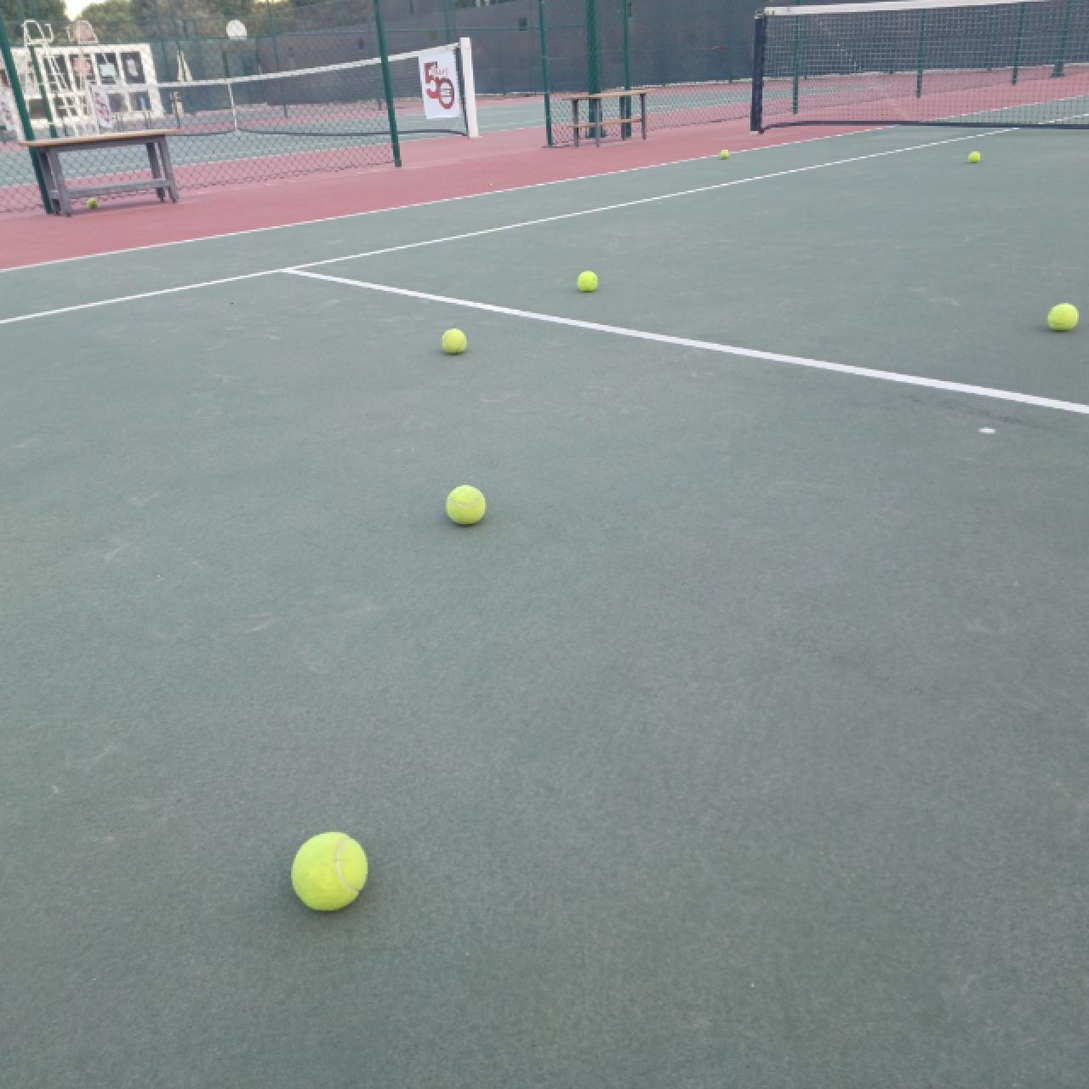tennis-ball: (291, 829, 367, 912), (445, 483, 487, 529), (1046, 300, 1080, 331), (439, 325, 467, 356), (574, 269, 599, 294), (965, 148, 982, 165), (718, 148, 730, 162)
